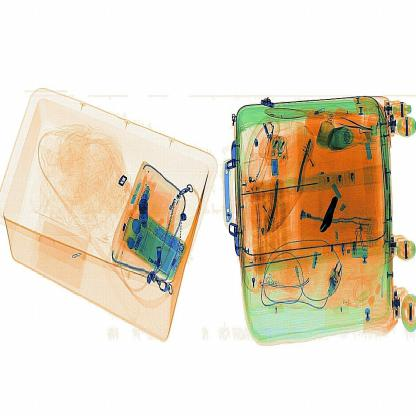knife: (317, 194, 337, 236)
